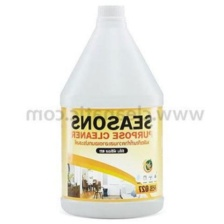cleaning_solution: (58, 2, 166, 221)
